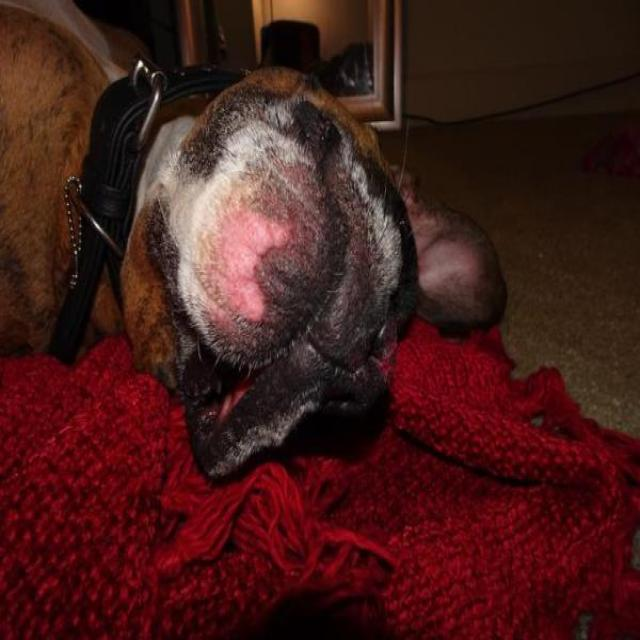viem da do vi khuan (cho): (9, 0, 466, 452)
